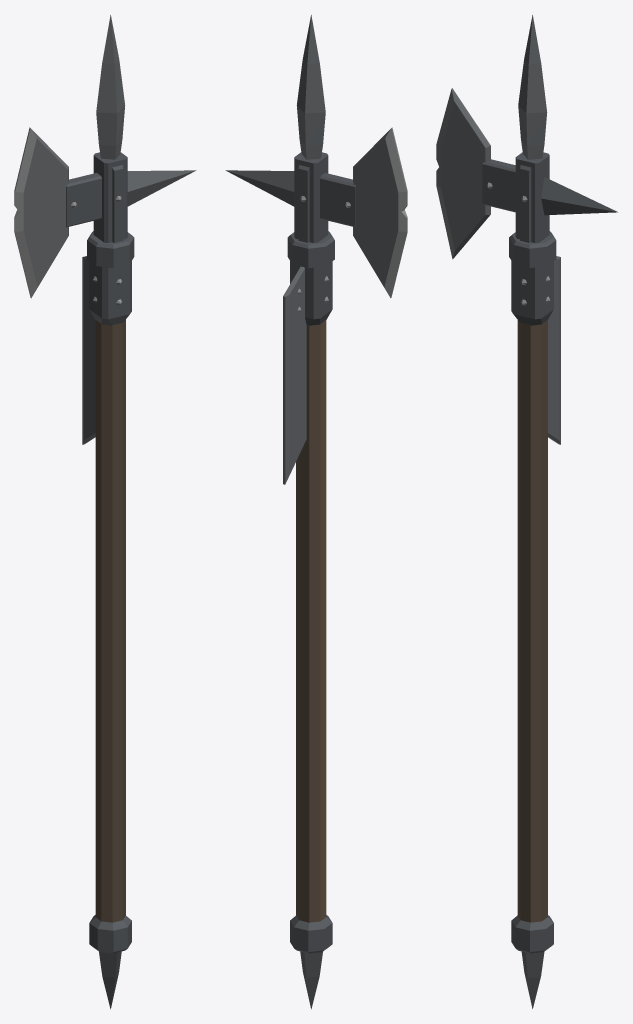
Rendered from spear-e9824e.glb.
The picture shows the model from 3 angles, left to right: view 1: azimuth 30°, elevation 25°; view 2: azimuth 150°, elevation 25°; view 3: azimuth 330°, elevation 25°; orthographic projection.
Parts seen in each view (by area): view 1: spear-pole, spear-head; view 2: spear-pole, spear-head; view 3: spear-pole, spear-head.
Boxes of the visible parts, left/top/right/bottom form: spear-pole: left=82, top=256, right=131, bottom=1009; spear-head: left=14, top=15, right=196, bottom=298; spear-pole: left=283, top=261, right=332, bottom=1009; spear-head: left=225, top=15, right=407, bottom=298; spear-pole: left=511, top=256, right=560, bottom=1008; spear-head: left=436, top=15, right=617, bottom=268.
Bounding box in the file's own units: 0.402 × 2.1 × 0.146.
